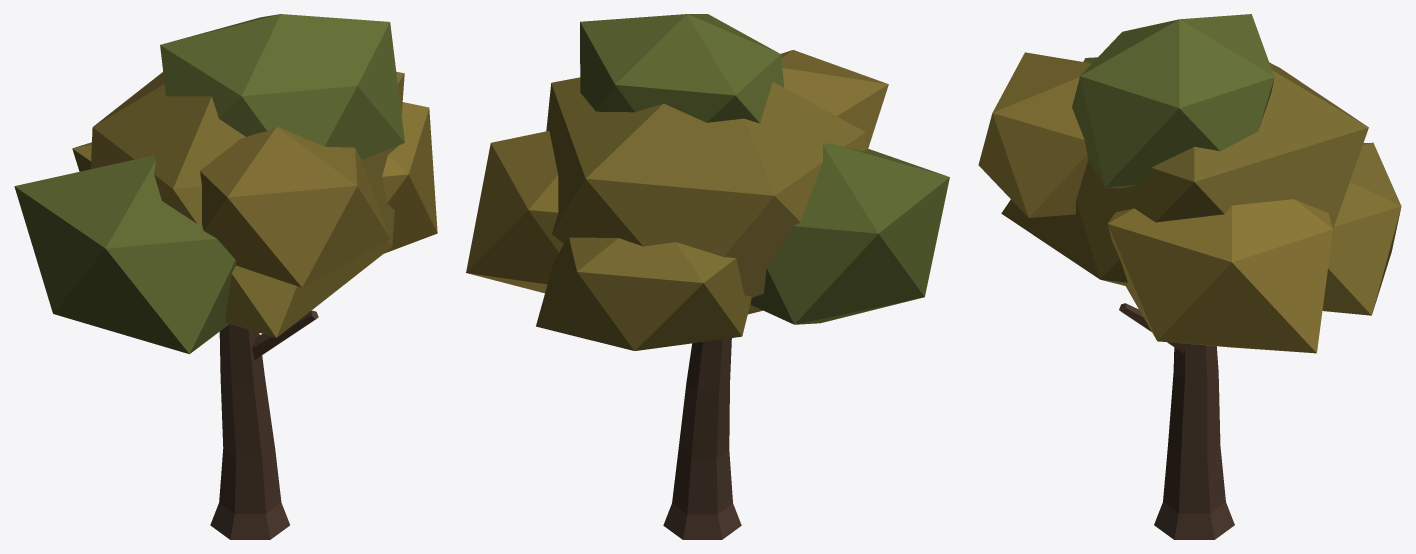
File: arvore_6.glb
3 views of the same model, side by side, from view 1: azimuth 30°, elevation 25°; view 2: azimuth 150°, elevation 25°; view 3: azimuth 270°, elevation 25° (orthographic). The views are drawn at different scales.
Visible parts, largest first — view 1: arvore_6.001; view 2: arvore_6.001; view 3: arvore_6.001.
Part boxes in pixels (x1=…): arvore_6.001: x1=14, y1=14, x2=437, y2=539; arvore_6.001: x1=466, y1=14, x2=949, y2=539; arvore_6.001: x1=978, y1=14, x2=1401, y2=539.
Bounding box in the file's own units: 3.19 × 3.8 × 2.82.
